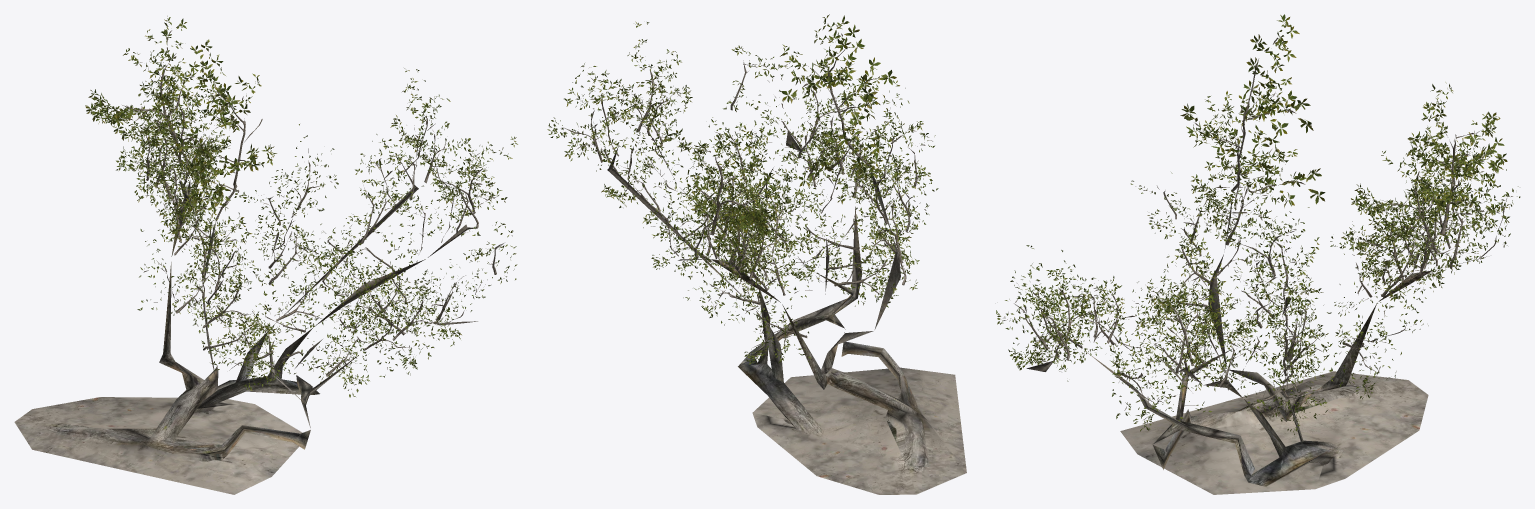
Rendered from island-tree-03-flow-lod-512.glb.
3 renders of one model, left to right at view 1: azimuth 30°, elevation 25°; view 2: azimuth 150°, elevation 25°; view 3: azimuth 270°, elevation 25°, orthographic. The views are drawn at different scales.
Visible parts, largest first — view 1: island_tree_03_LOD0; view 2: island_tree_03_LOD0; view 3: island_tree_03_LOD0.
Boxes of the visible parts, x1,y1,x2,y2 form: island_tree_03_LOD0: (14, 16, 517, 494); island_tree_03_LOD0: (547, 14, 966, 494); island_tree_03_LOD0: (996, 14, 1520, 494).
Size of the model in its own units: 2.94 by 2.61 by 2.85.
Materials: 3 (3 with a texture image).
